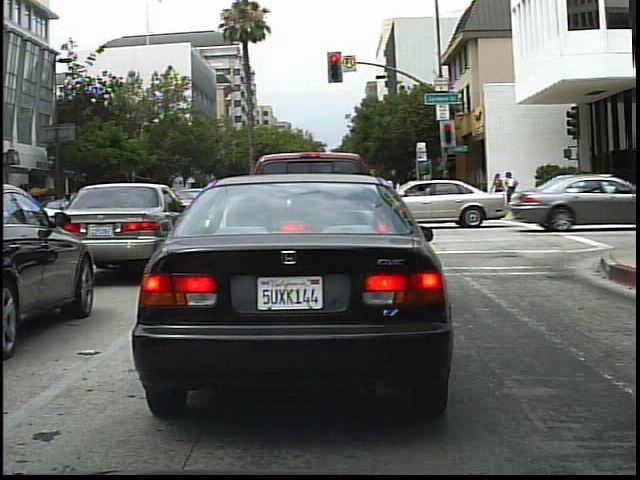person: (486, 168, 507, 211), (502, 166, 522, 209)
